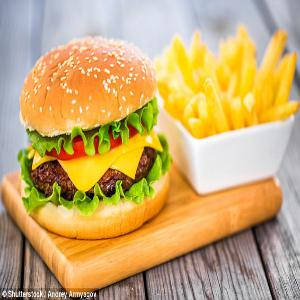cheeseburger_475cal: (15, 34, 170, 246)
fries_350cal: (165, 27, 299, 141)
